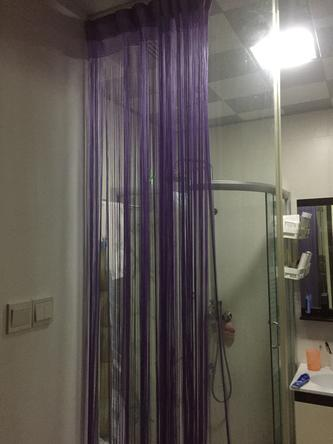switch: (11, 309, 30, 329)
